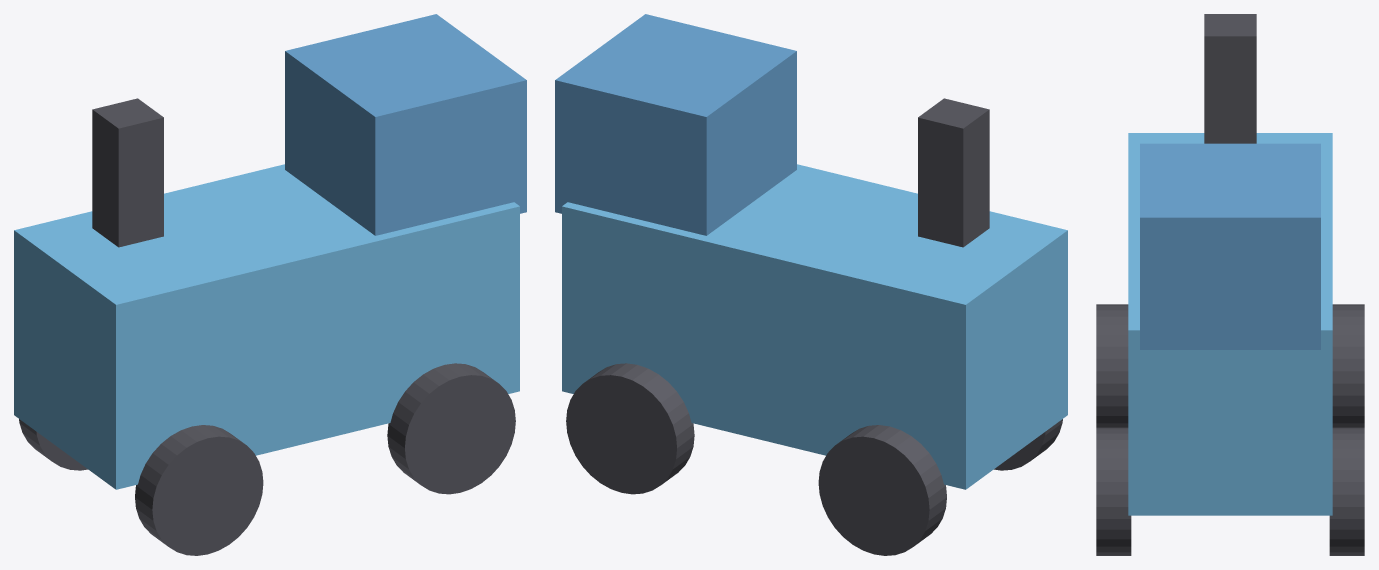
File: train_engine.glb
The picture shows the model from 3 angles, left to right: view 1: azimuth 30°, elevation 25°; view 2: azimuth 150°, elevation 25°; view 3: azimuth 270°, elevation 25°; orthographic projection.
Visible parts, largest first — view 1: body, cabin, wheel3, wheel1, chimney, wheel2; view 2: body, cabin, wheel2, wheel0, chimney, wheel3; view 3: body, cabin, chimney, wheel0, wheel1, wheel2, wheel3.
Boxes of the visible parts, x1,y1,x2,y2 form: body: (14, 164, 519, 489); cabin: (285, 14, 526, 235); wheel3: (135, 425, 263, 555); wheel1: (387, 363, 515, 494); chimney: (92, 98, 163, 247); wheel2: (19, 419, 87, 470); body: (562, 164, 1067, 489); cabin: (555, 14, 796, 235); wheel2: (818, 425, 946, 555); wheel0: (566, 363, 694, 494); chimney: (918, 98, 989, 247); wheel3: (994, 419, 1062, 470); body: (1128, 133, 1332, 515); cabin: (1140, 143, 1320, 349); chimney: (1204, 14, 1256, 143); wheel0: (1329, 427, 1364, 555); wheel1: (1096, 427, 1131, 555); wheel2: (1332, 304, 1364, 427); wheel3: (1096, 304, 1128, 427).
Bounding box in the file's own units: 1.65 × 1.49 × 0.92.
